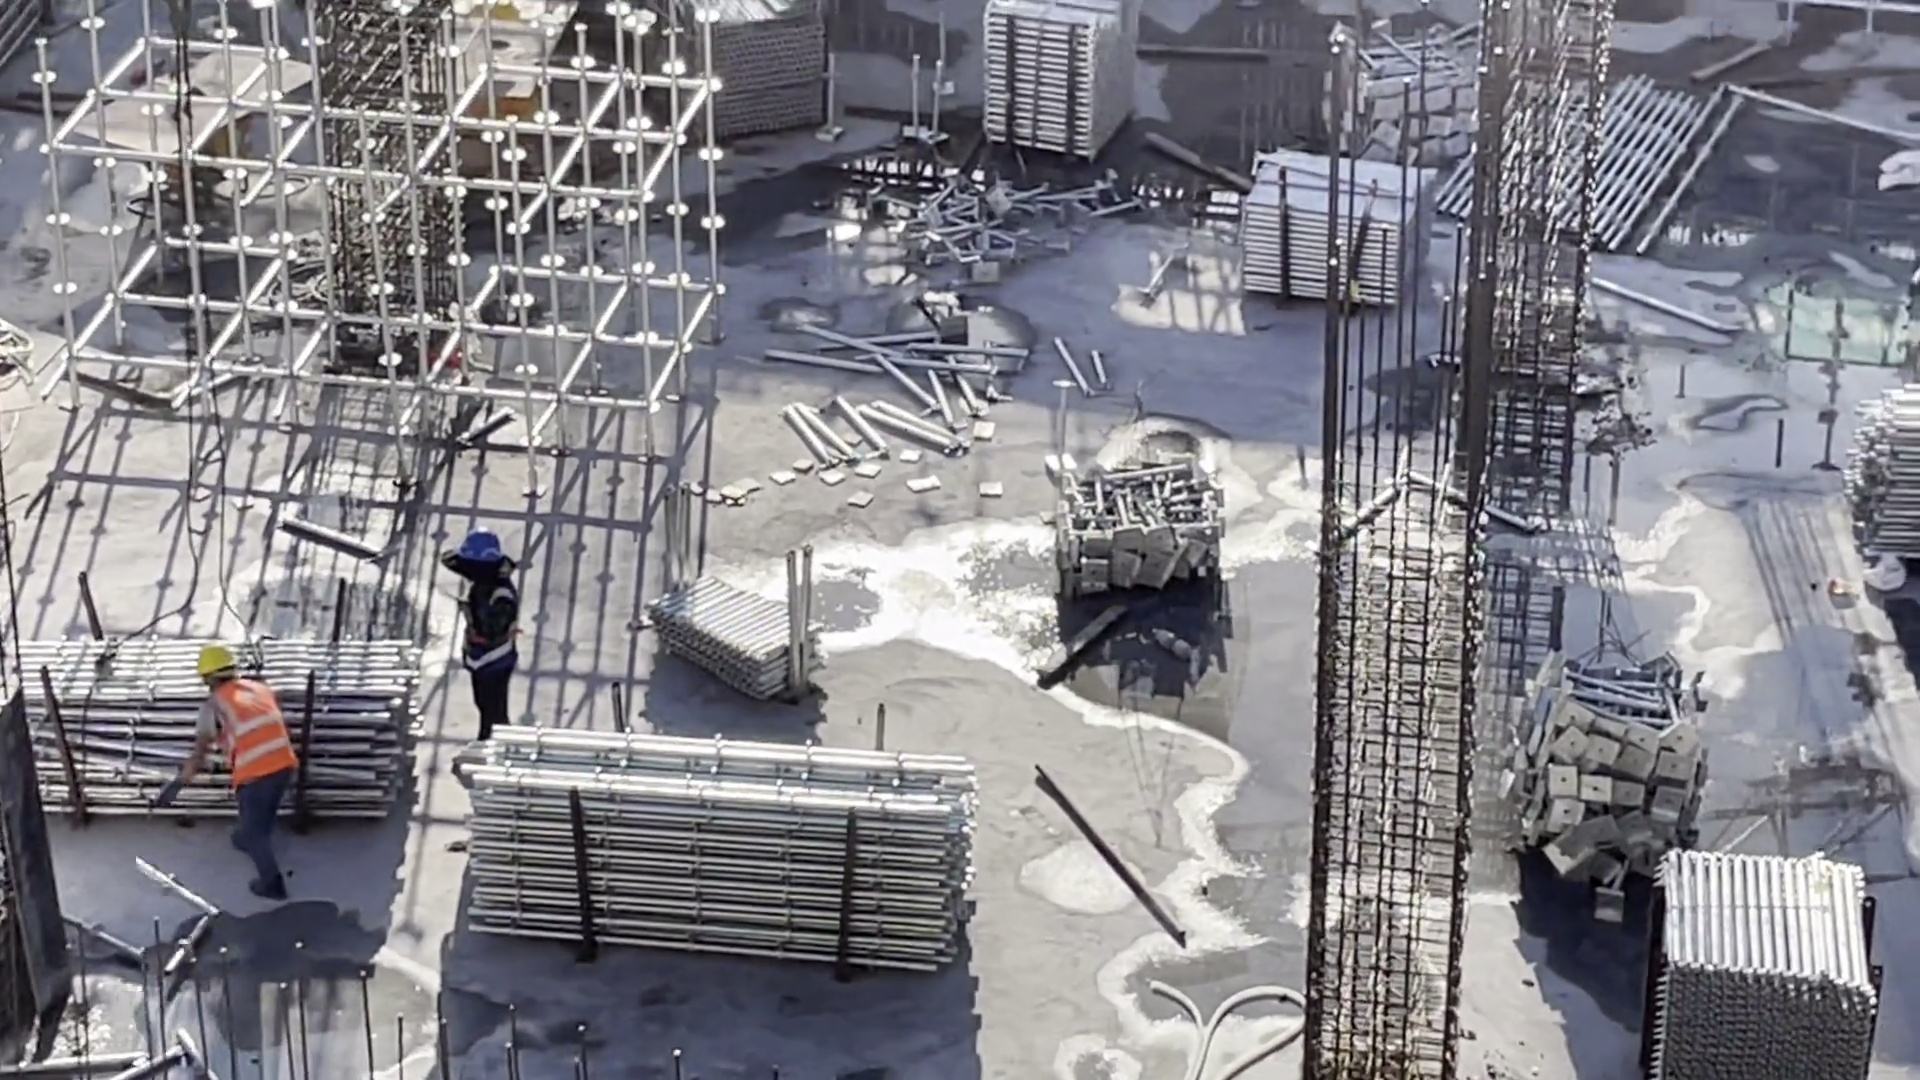cutter: (78, 42, 325, 187), (384, 5, 599, 126)
helmet: (454, 526, 511, 591), (189, 628, 243, 674)
person: (184, 635, 321, 898), (434, 523, 525, 780)
scaffold: (459, 728, 950, 960), (4, 643, 411, 817), (1653, 838, 1897, 1080), (1514, 668, 1702, 889), (1045, 445, 1232, 607), (1324, 45, 1530, 169), (652, 3, 828, 146), (1238, 176, 1429, 307), (977, 1, 1127, 160), (661, 566, 818, 698), (1848, 394, 1920, 551)
vest: (200, 672, 301, 788), (452, 582, 513, 664)
